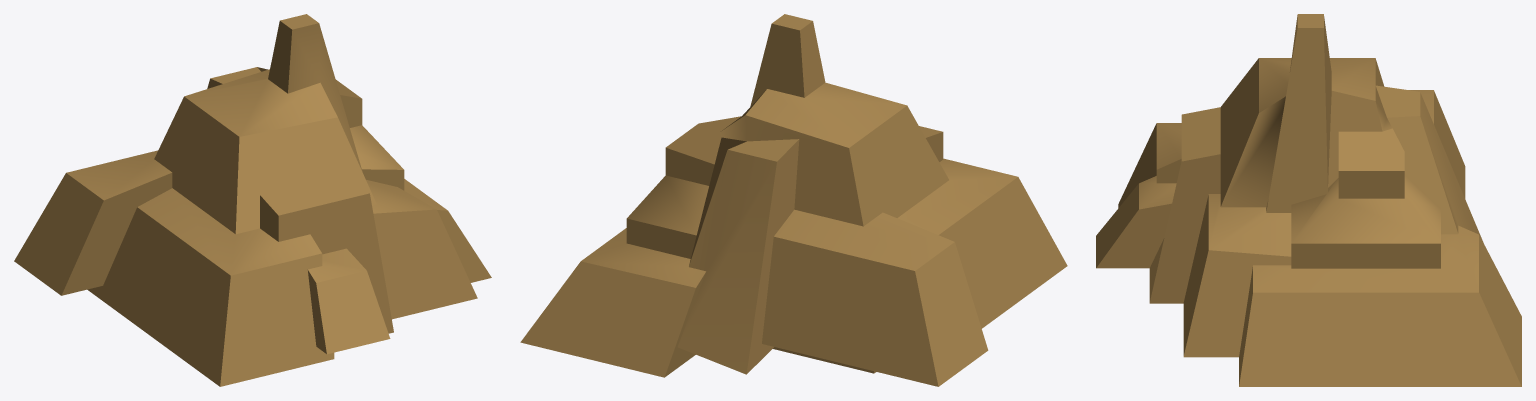
Rendered from Stone_Giant.fbx.
3 views of the same model, side by side, from view 1: azimuth 30°, elevation 25°; view 2: azimuth 150°, elevation 25°; view 3: azimuth 270°, elevation 25° (orthographic). The views are drawn at different scales.
Visible parts, largest first — view 1: group2_pCube5; view 2: group2_pCube5; view 3: group2_pCube5.
Boxes of the visible parts, x1,y1,x2,y2 form: group2_pCube5: (14, 14, 491, 386); group2_pCube5: (520, 14, 1067, 386); group2_pCube5: (1096, 14, 1521, 386).
Size of the model in its own units: 4.55 by 3.16 by 4.29.
